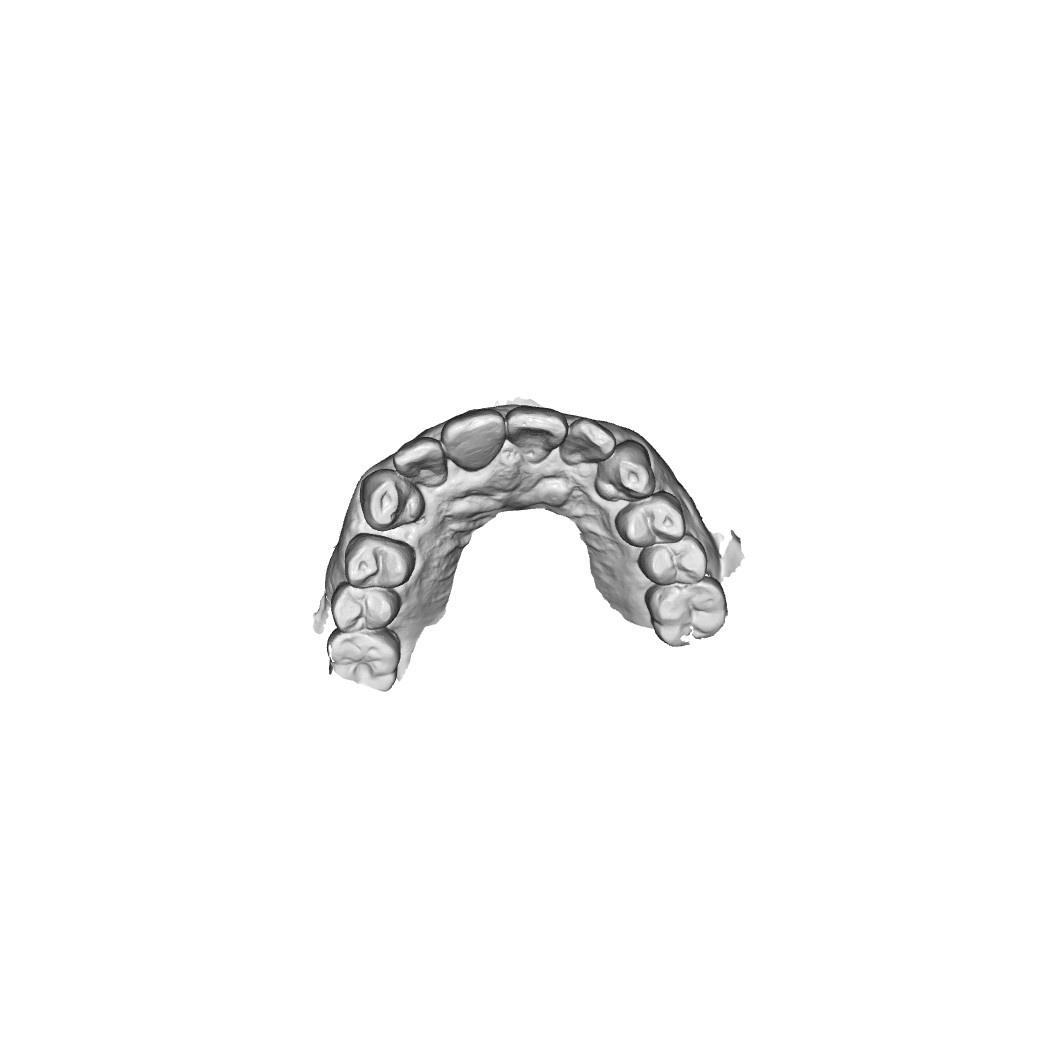canine: (351, 469, 427, 531), (595, 441, 660, 501)
incisor: (440, 410, 512, 474), (503, 407, 570, 464), (394, 438, 450, 481), (561, 422, 612, 461)
molar: (648, 582, 723, 645), (330, 632, 401, 693)
premolar: (342, 534, 416, 592), (331, 584, 402, 639), (616, 500, 686, 555), (640, 534, 708, 585)
